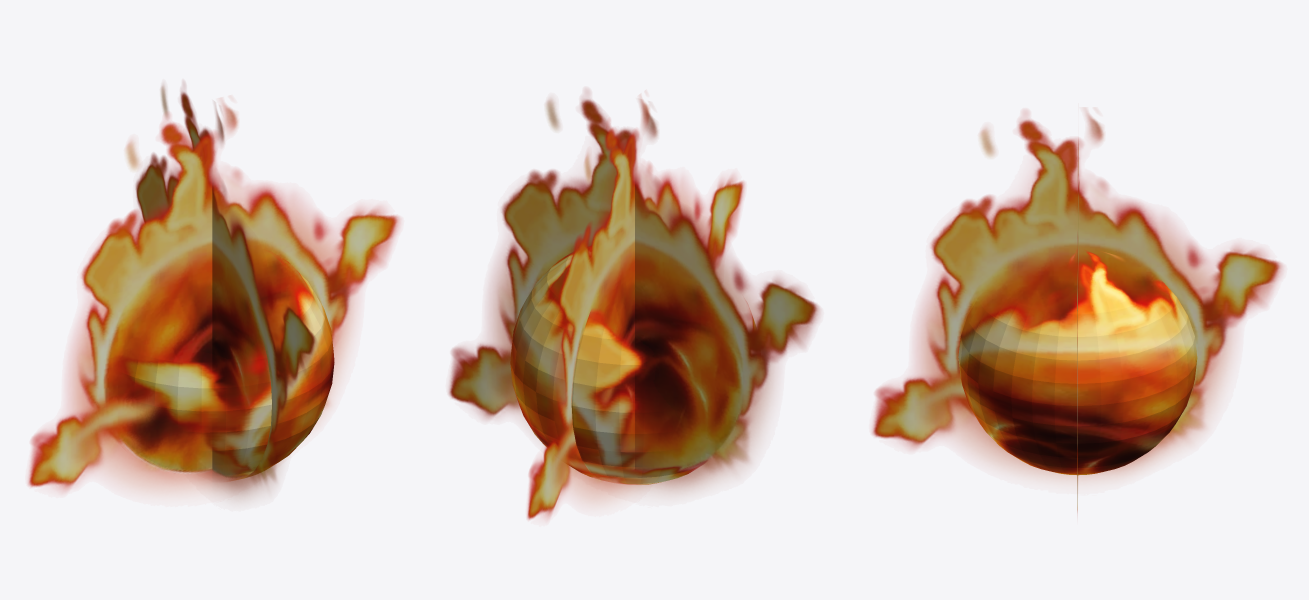
Rendered from fire.glb.
3 views of the same model, side by side, from view 1: azimuth 30°, elevation 25°; view 2: azimuth 150°, elevation 25°; view 3: azimuth 270°, elevation 25° (orthographic). The views are drawn at different scales.
Parts seen in each view (by area): view 1: Sphere.001; view 2: Sphere.001; view 3: Sphere.001.
Boxes of the visible parts, x1=… form: Sphere.001: x1=28, y1=84, x2=399, y2=498; Sphere.001: x1=448, y1=91, x2=819, y2=519; Sphere.001: x1=872, y1=111, x2=1282, y2=512.
Bounding box in the file's own units: 0.9924 × 0.9782 × 0.9924.
Materials: 1 (1 with a texture image).
